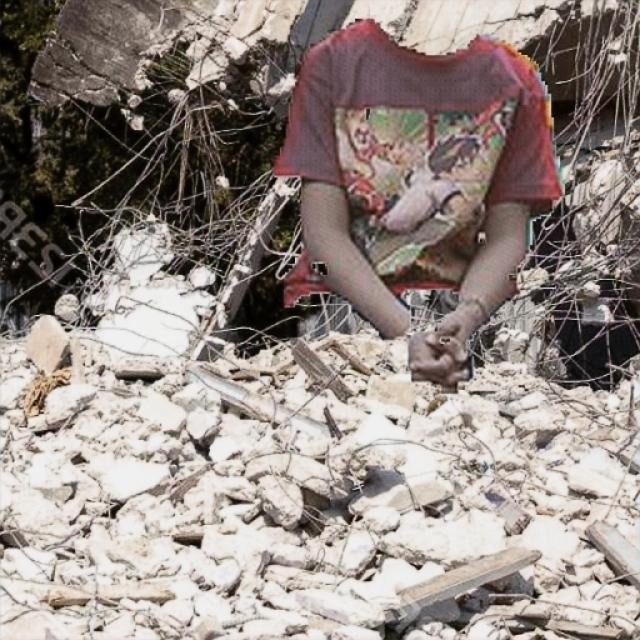Person in Rubble: (274, 19, 564, 392)
